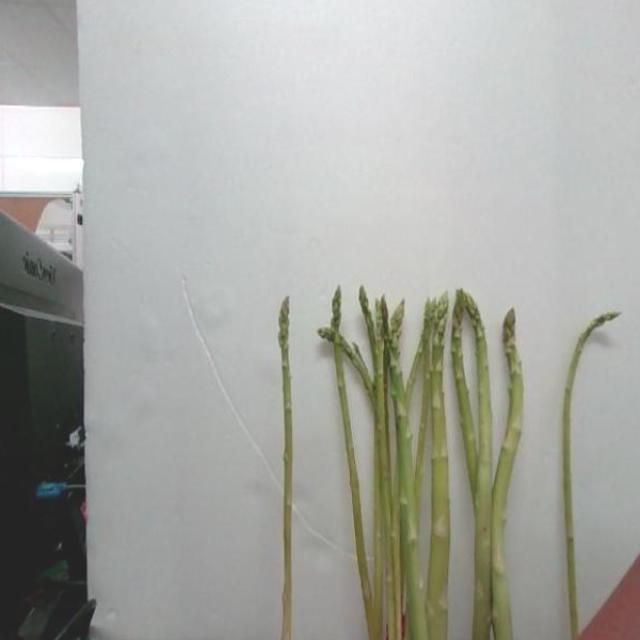aspargus: (562, 314, 620, 640)
